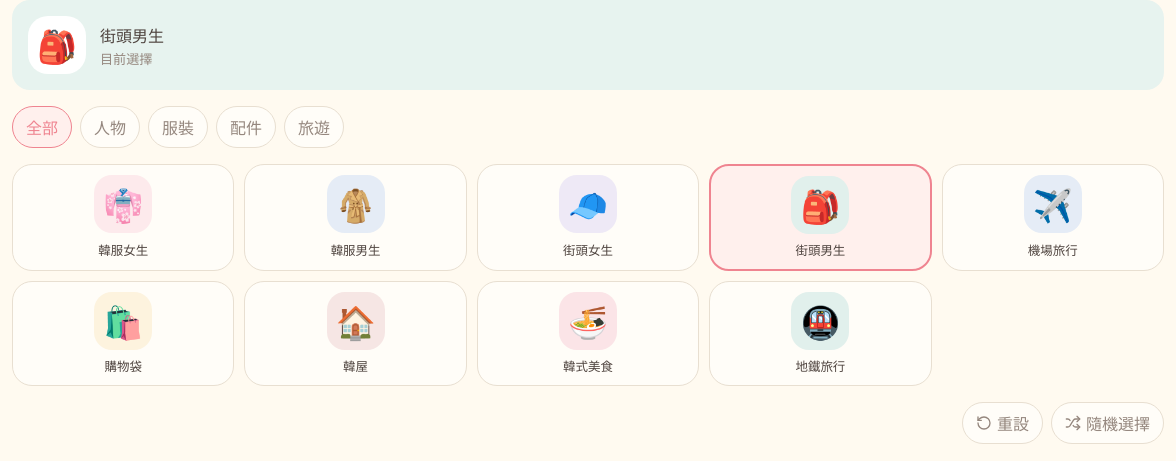
Scenario: IllustrationPicker › filters by category
The width and height of the screenshot is (1176, 461).
Click the tab "服裝".
click(178, 127)  # box x1=148 y1=106 x2=208 y2=148
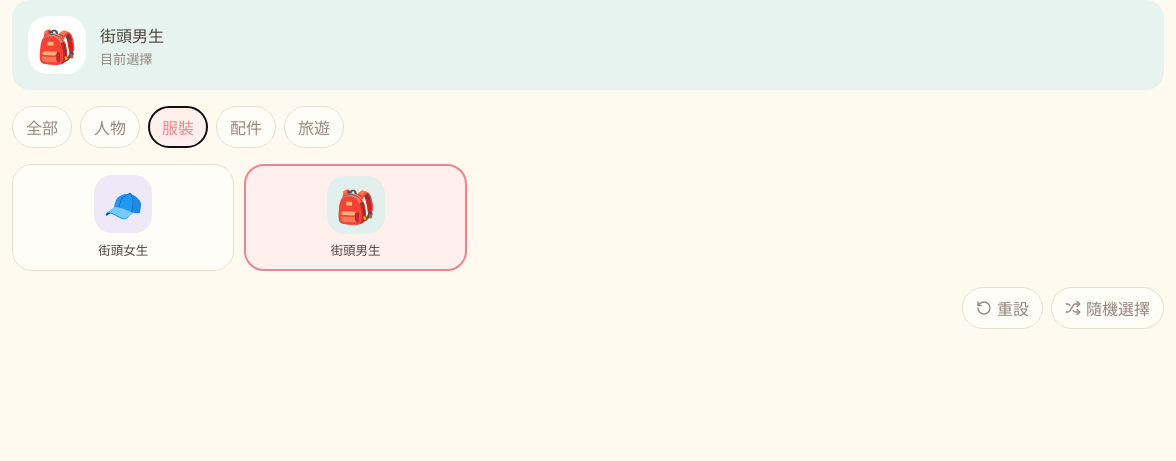
Expected: the button "🧢 街頭女生" is shown, x1=12 y1=164 x2=234 y2=271
Now the button "韓屋" is gone
